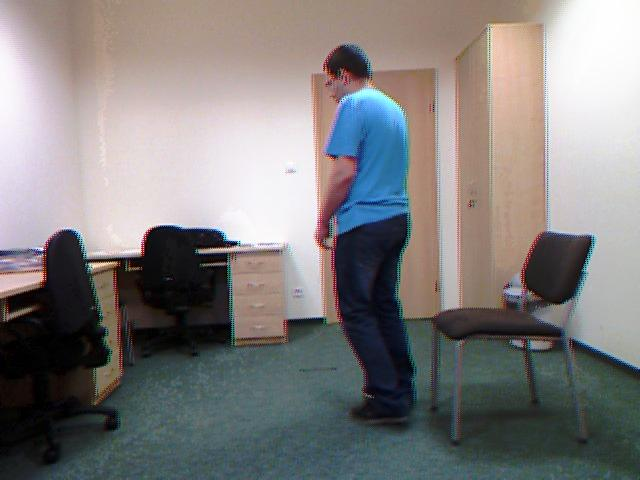walking: (307, 33, 424, 433)
